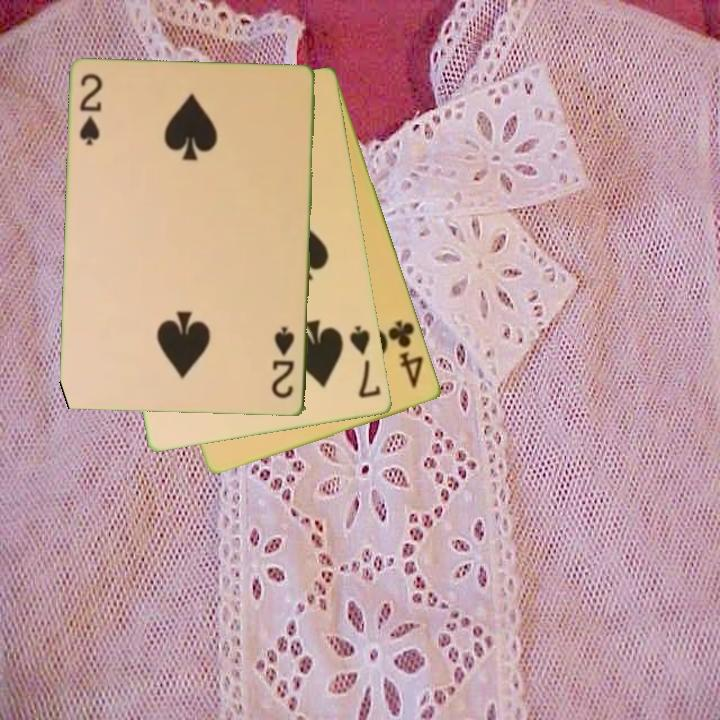2s: (269, 324, 298, 402), (77, 70, 106, 148)
4c: (385, 317, 427, 392)
7s: (346, 322, 384, 402)
